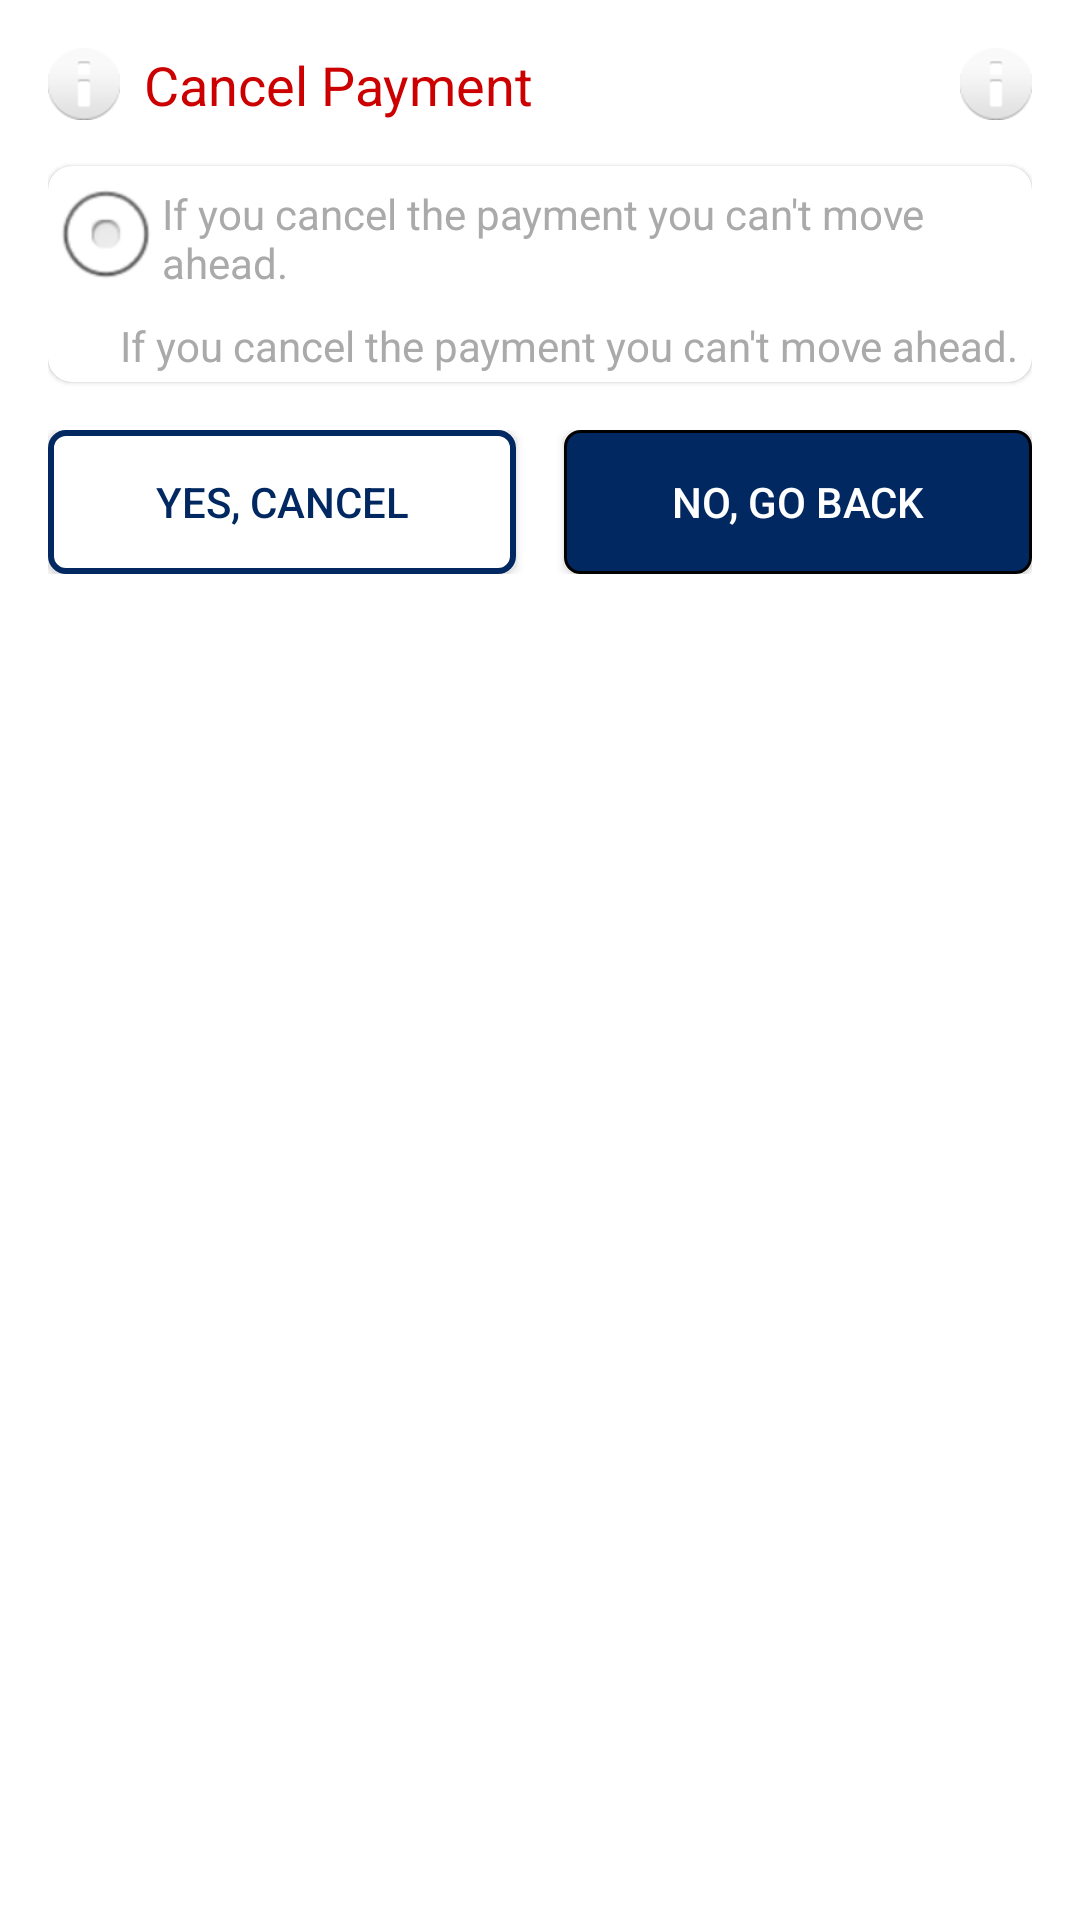

Named icons in this screenshot (1080px x 1920px) and their bounding boxes, (x1, y1, x2, y2):
info: (48, 61, 120, 120), (960, 61, 1032, 120)
